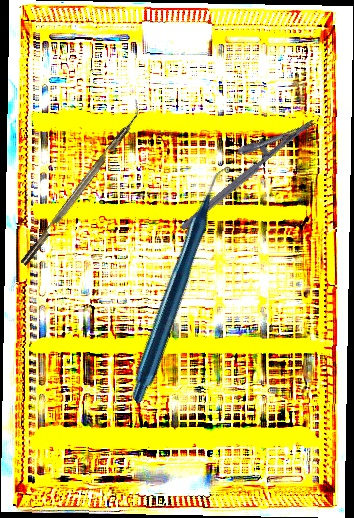Chopper: (12, 98, 149, 267)
Handpiece: (55, 165, 310, 405)
Needle Holder: (164, 100, 318, 232)
